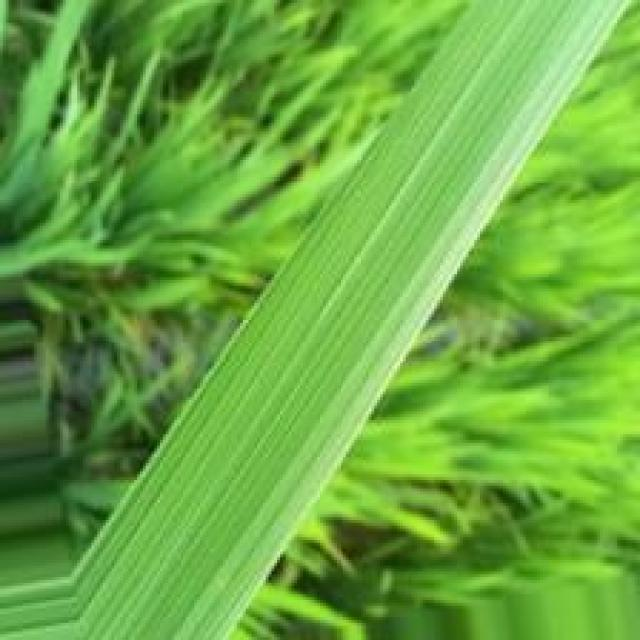HealthyLeaf: (68, 10, 605, 640)
